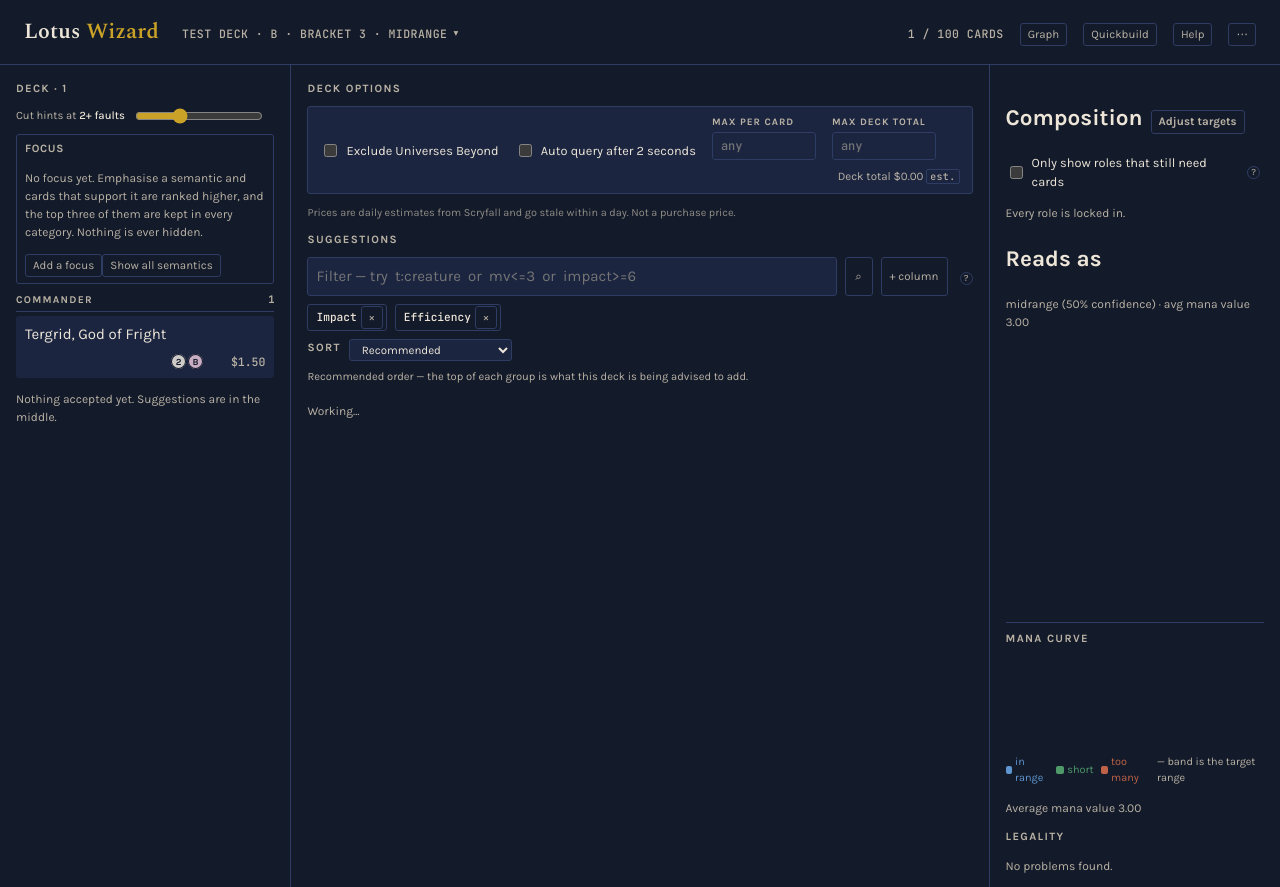
Test: the whole vocabulary, in categories › files a keyword under Keywords
Expected: the button "Tergrid, God of Fright" is shown, [25, 323, 266, 345]
What coordinates should you click on to do the following:
click the button "Show all semantics"
I would click on:
 (162, 266)
Its box is [102, 254, 221, 277].
(page scrolled)
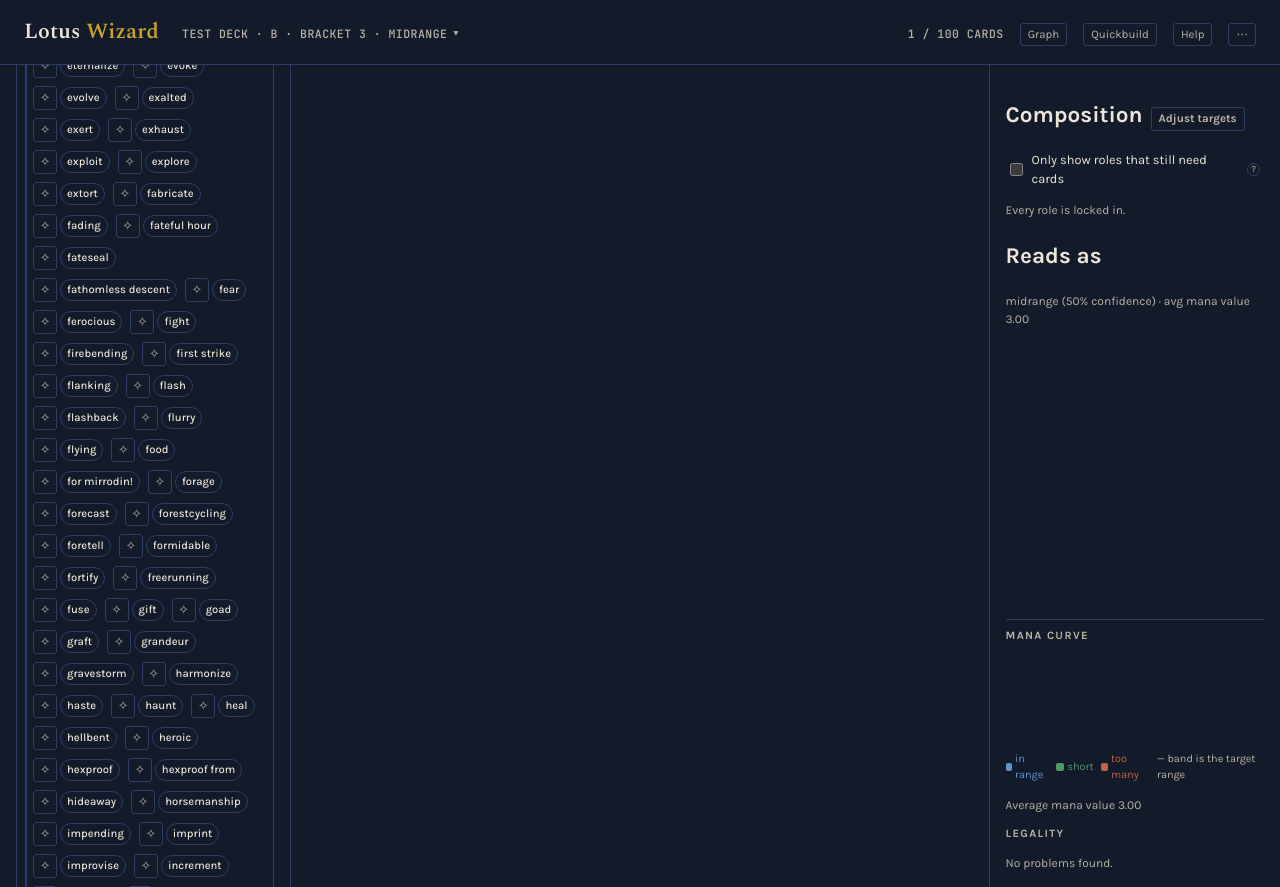
Expected: the button named "Emphasise flying" is shown, [33, 438, 57, 462]
